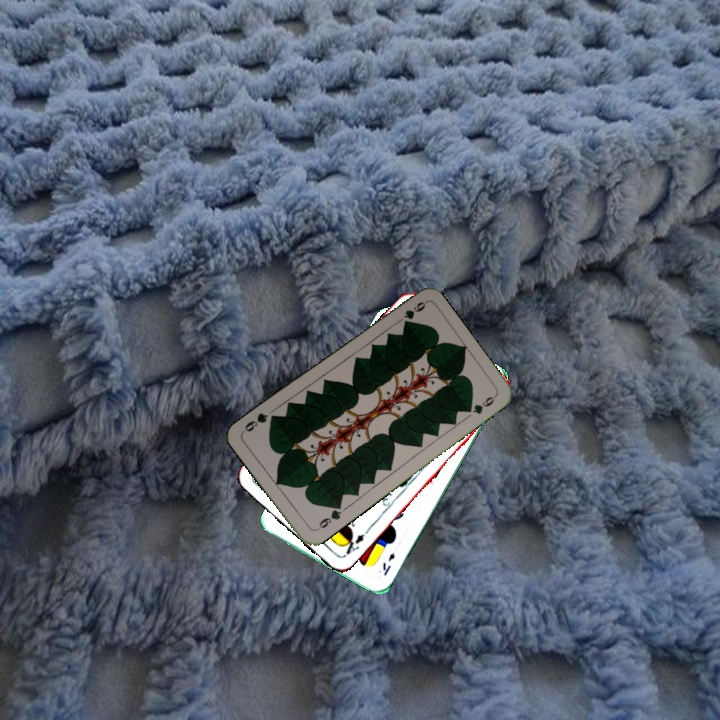EA: (337, 530, 367, 559)
EK: (378, 549, 398, 578)
G9: (311, 501, 344, 534), (400, 297, 428, 321)
